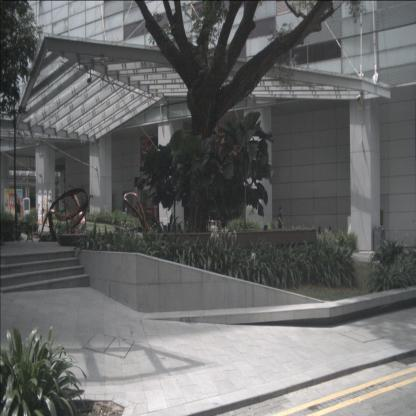human-pedestrian-adult: (278, 206, 283, 239), (16, 198, 21, 225), (327, 226, 332, 244), (318, 226, 322, 244)
